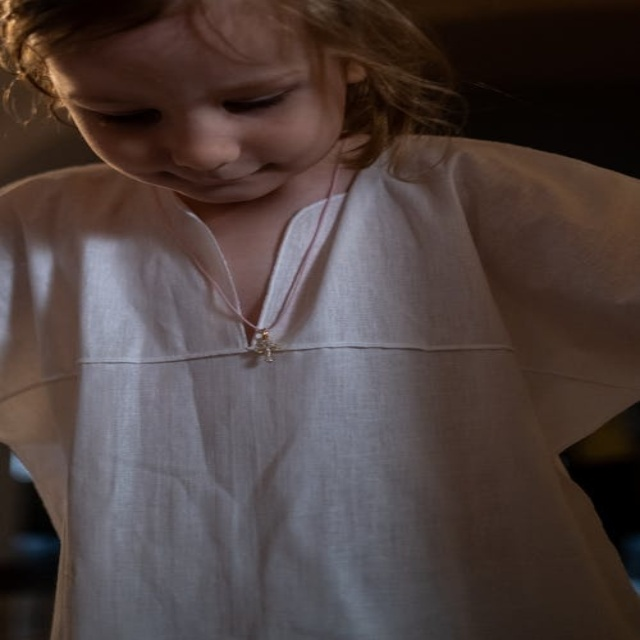Sin_gafas: (67, 55, 312, 131)
Sin_mascara: (155, 156, 284, 207)
